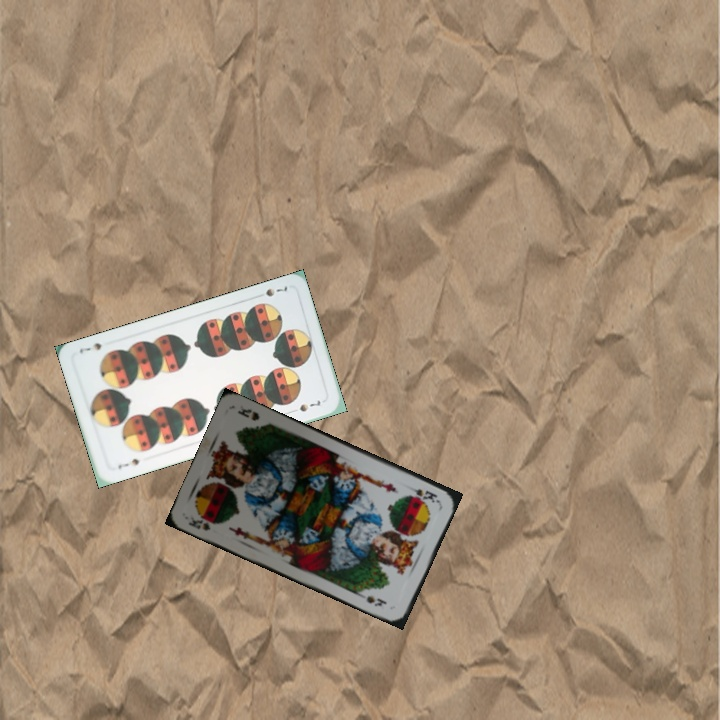S7: (261, 281, 290, 299), (114, 454, 142, 472)
SK: (404, 481, 442, 506), (184, 513, 218, 533)
